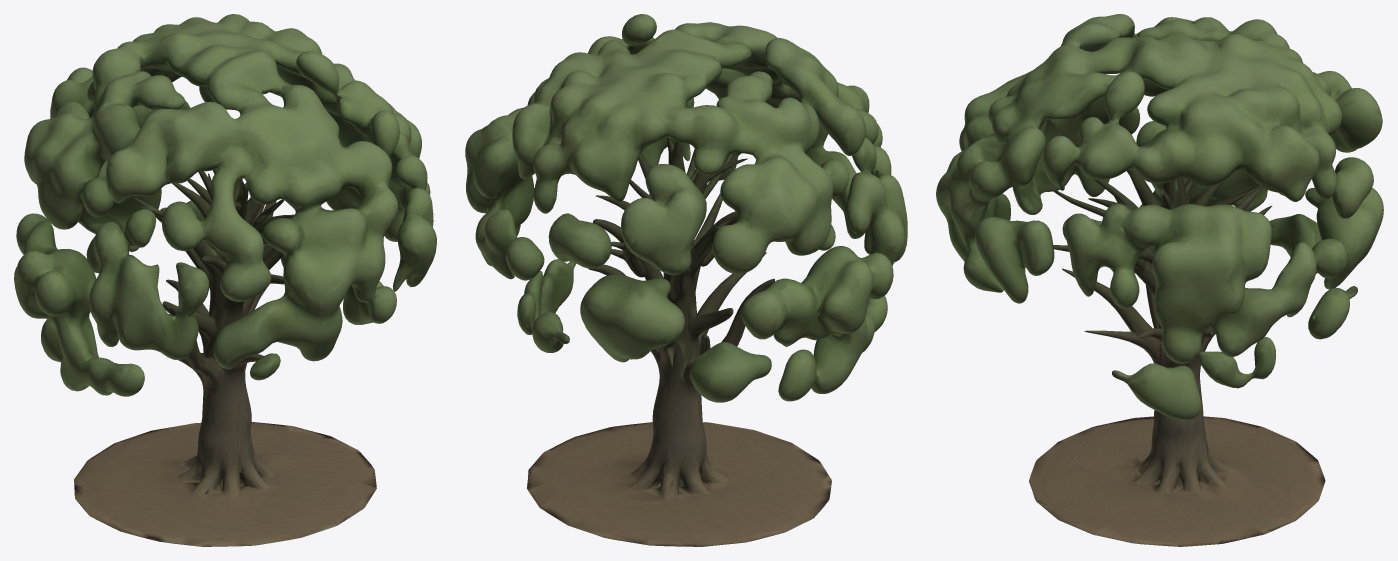
Rendered from ShadeTree.glb.
3 views of the same model, side by side, from view 1: azimuth 30°, elevation 25°; view 2: azimuth 150°, elevation 25°; view 3: azimuth 270°, elevation 25° (orthographic).
Parts seen in each view (by area): view 1: node_0.001, node_0, node_0.002; view 2: node_0, node_0.001, node_0.002; view 3: node_0, node_0.001, node_0.002.
Boxes of the visible parts, x1,y1,x2,y2 form: node_0.001: (24,14,407,244); node_0: (14,187,425,546); node_0.002: (15,86,436,336); node_0: (475,151,907,546); node_0.001: (489,14,876,237); node_0.002: (465,69,907,326); node_0: (949,164,1383,546); node_0.001: (962,14,1381,224); node_0.002: (936,79,1383,325).
Bounding box in the file's own units: 0.9219 × 0.9869 × 0.9081.
Materials: 1 (1 with a texture image).
